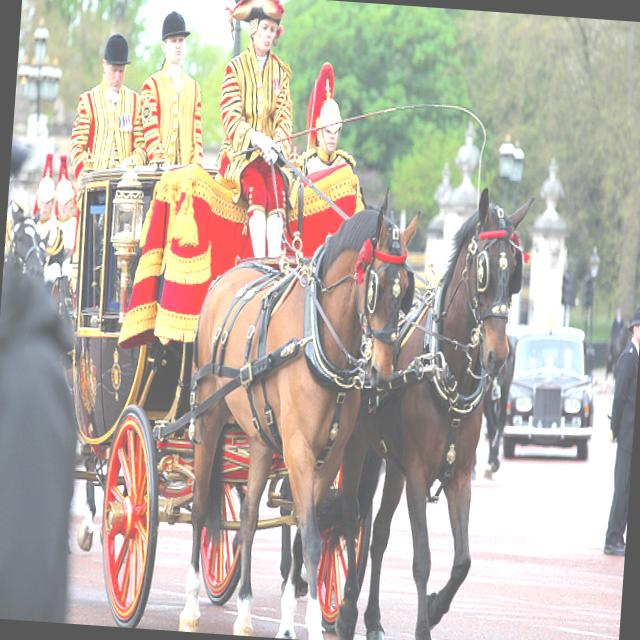Vehicle: (500, 320, 600, 466)
